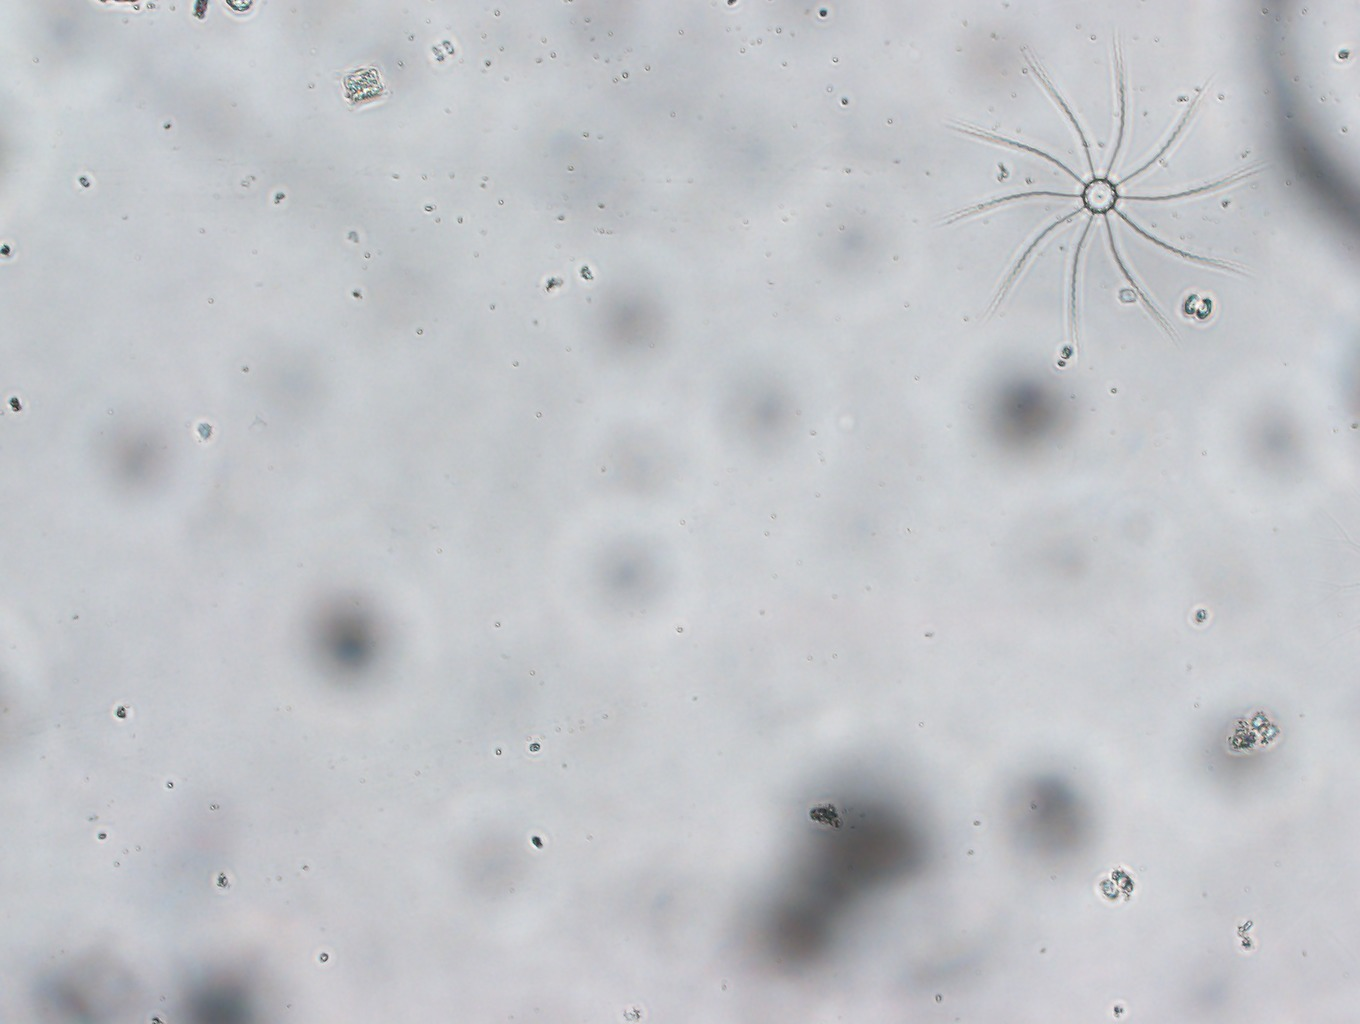bacteriastrum: (933, 20, 1263, 349)
